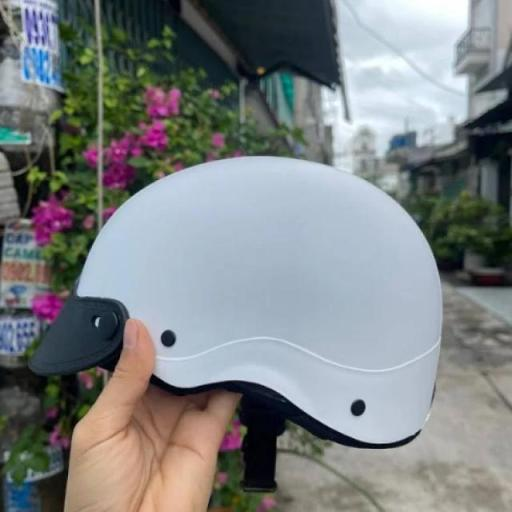with helmet: (27, 153, 444, 447)
